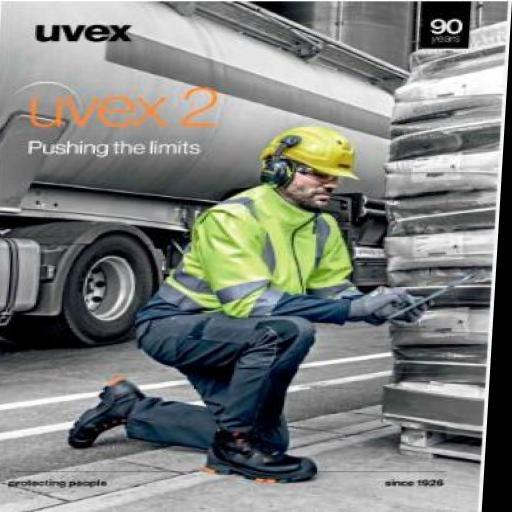safety_boots: (203, 432, 318, 492), (65, 373, 131, 460)
